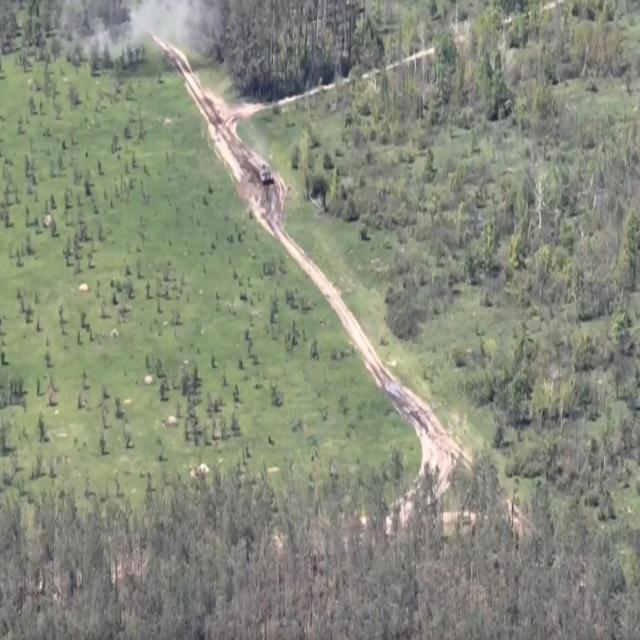MBT: (259, 163, 274, 189)
